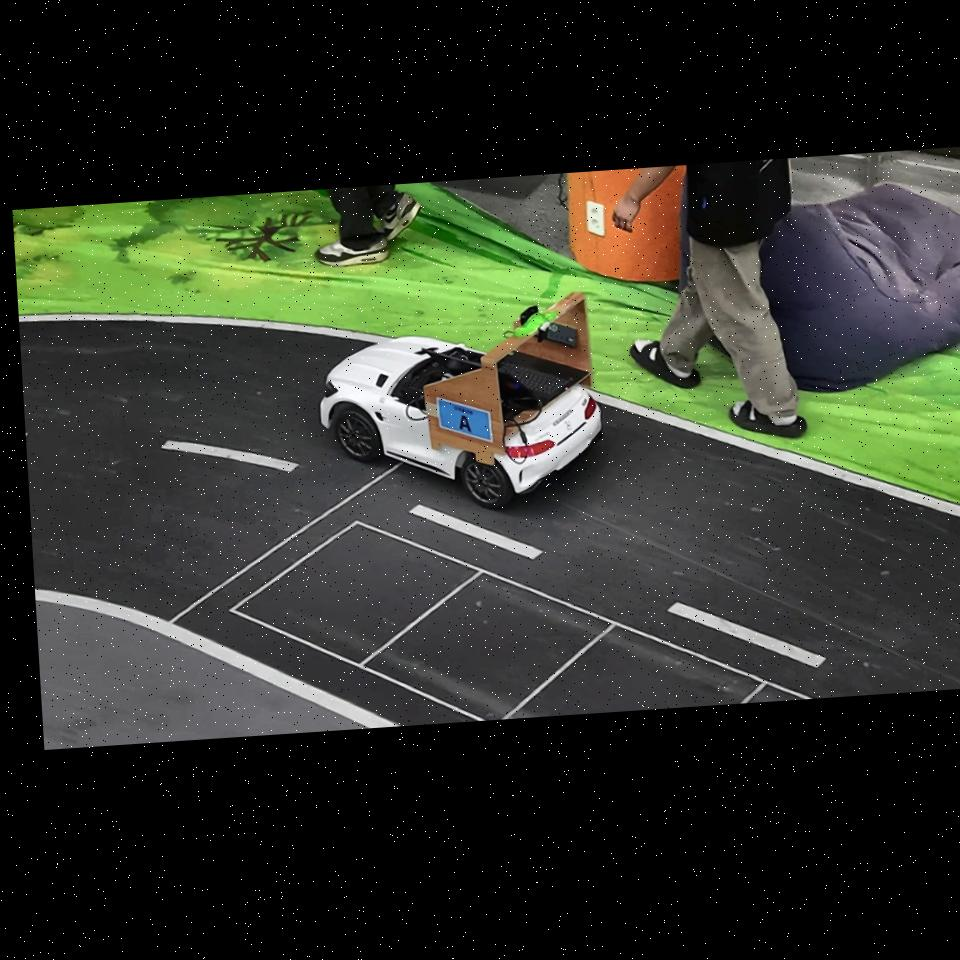broken_line: (668, 602, 825, 668), (409, 505, 542, 559), (161, 440, 298, 472)
